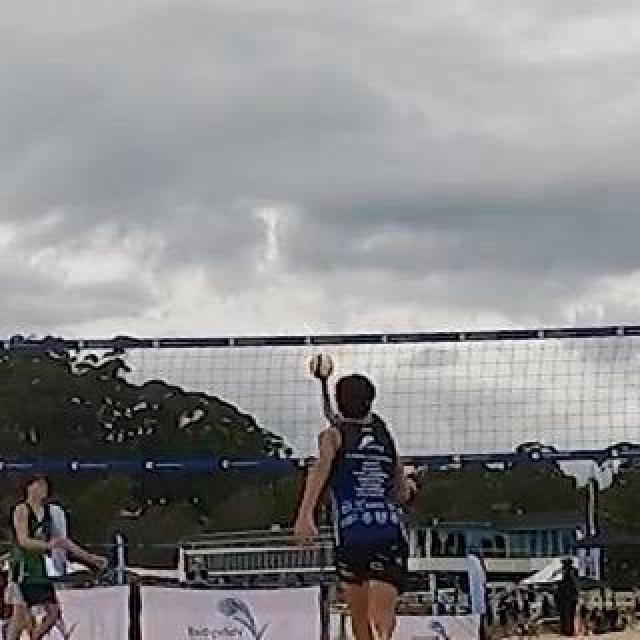volleyball: (312, 353, 336, 379)
